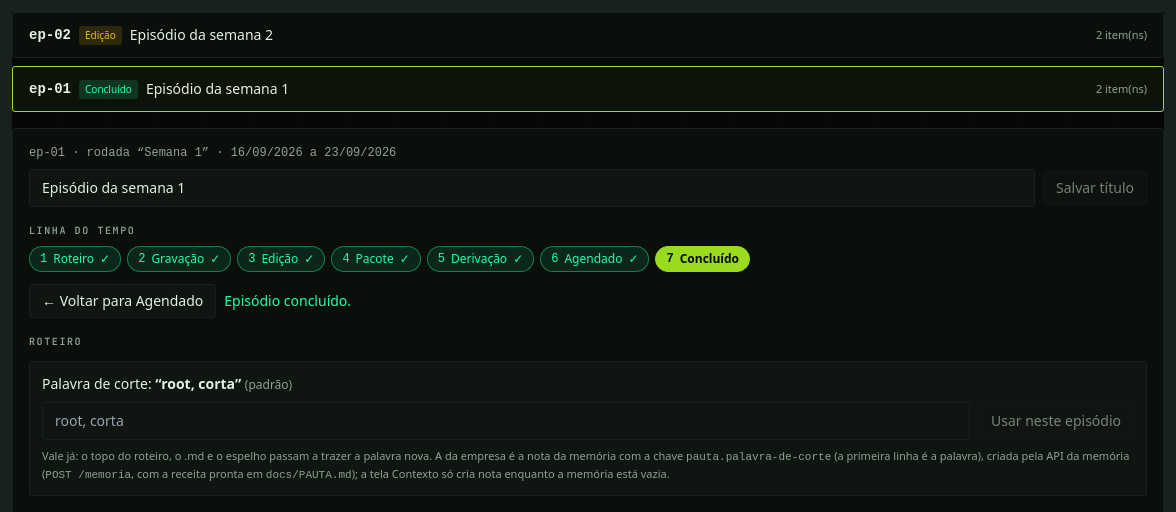
a lista de episódios › abre o que outra aba mandou abrir, e troca ao clicar
Expected: the text "Episódio concluído." is shown, [224,291,351,311]
Click the button "ep-02 Edição Episódio da semana 2 2 item(ns)".
click(50, 35)  # box [12,12,1164,58]
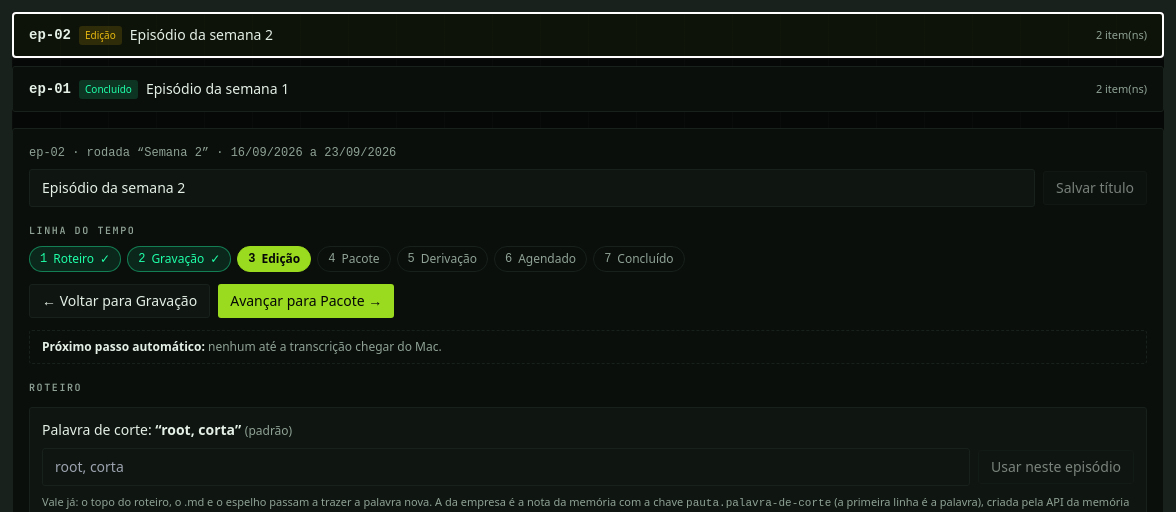
Result: the button "Avançar para Pacote →" is shown at [218,284,394,318]
